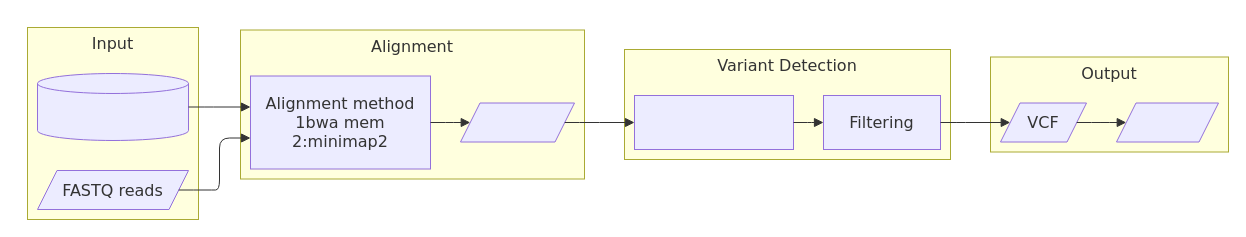
Some shapes in this 1246 by 237 pixel diagram are drawn without their labels. The box of each missing label's shape, as (x1, y1, x2, y2) in pixels:
BAM file: (460, 102, 574, 142)
Reference genome: (36, 72, 188, 140)
Report: (1116, 102, 1218, 142)
Variant calling: (634, 94, 794, 150)
